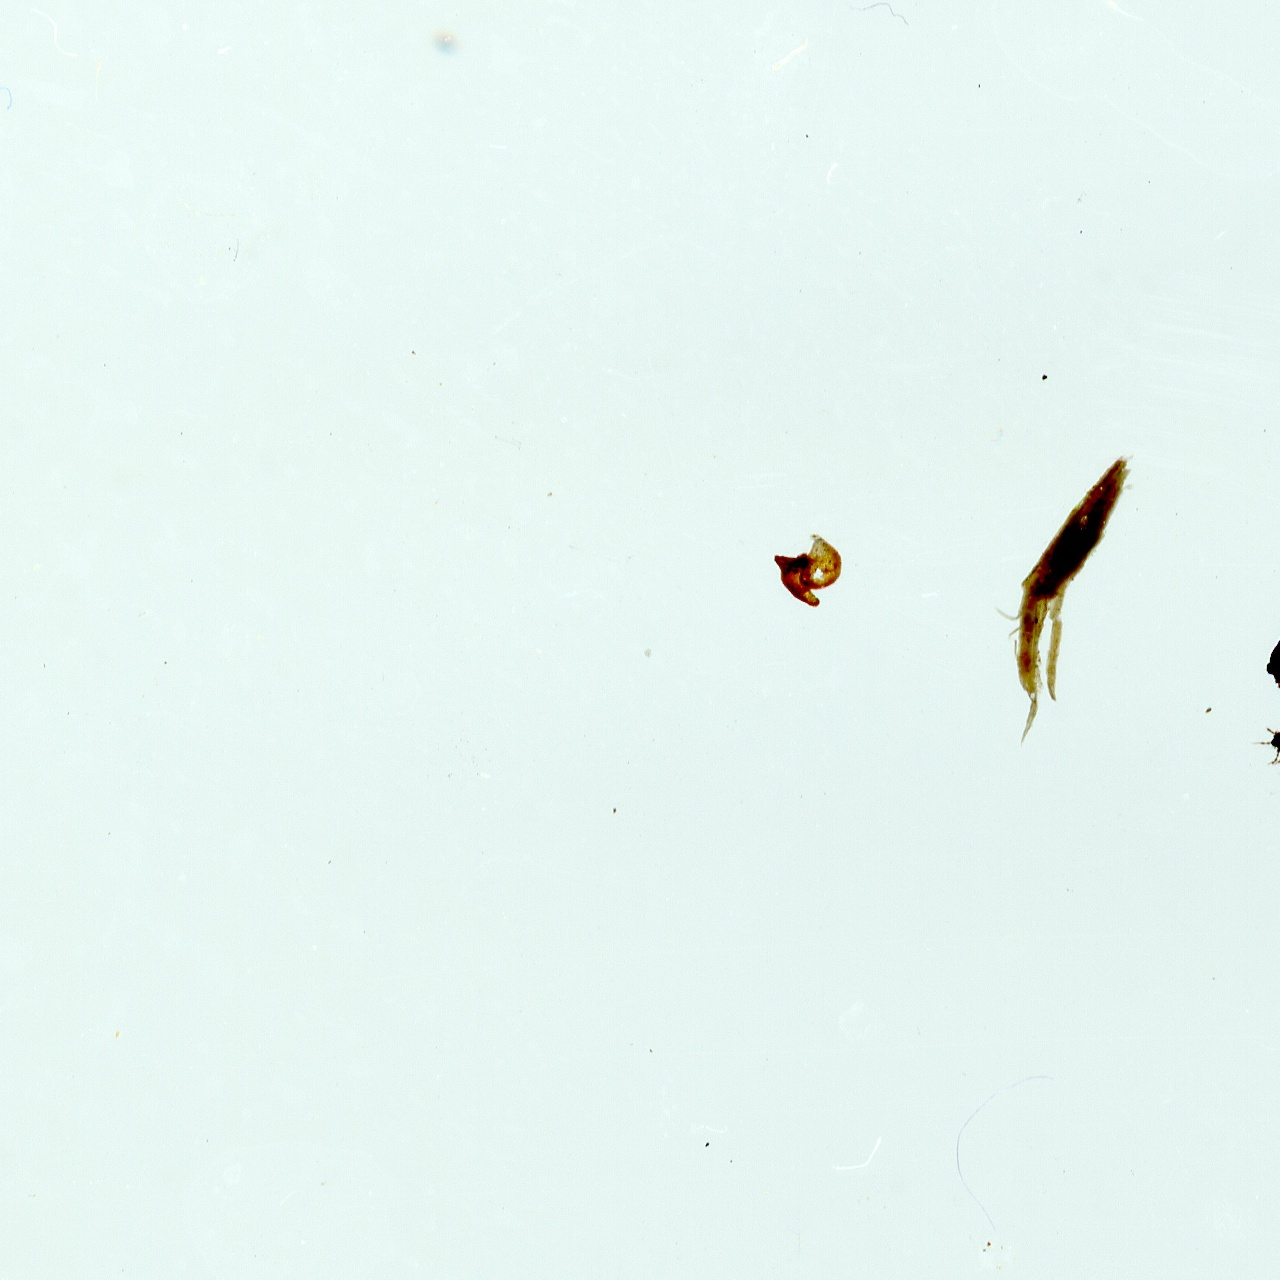arthropod: (1250, 710, 1280, 769)
